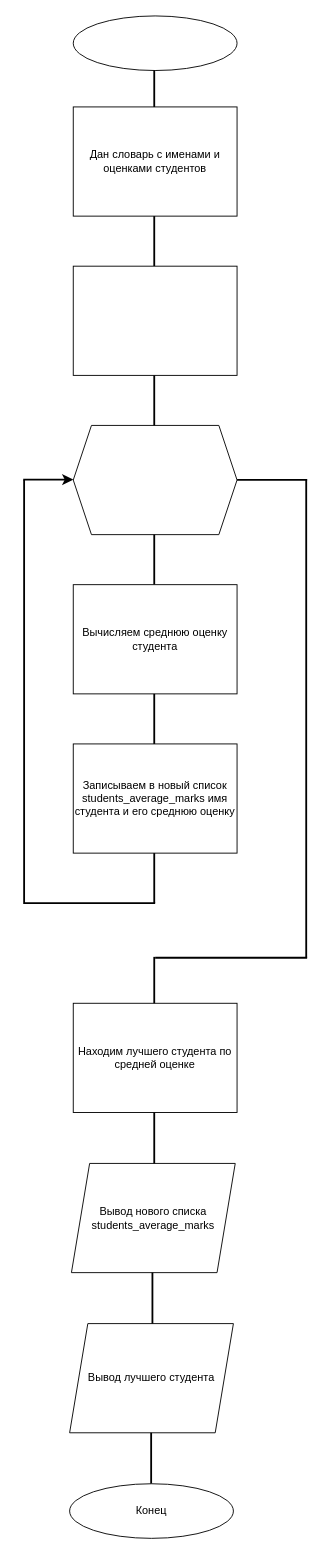
This 324x1554 diagram has some shape labels left out. The centre of each missing label's shape, as x and y in pixels:
"Для каждого студента в словаре" belongs at (154,480).
"Начало" belongs at (154,43).
"Создание нового пустого словаря students_average_marks" belongs at (154,320).
